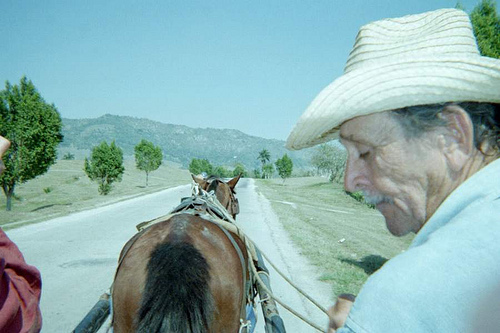horse: (109, 169, 260, 333)
